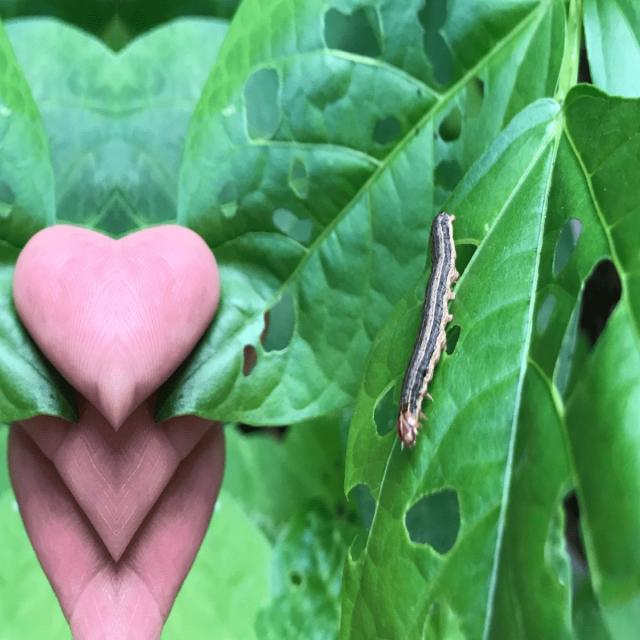Armyworm: (405, 172, 456, 455)
Armyworm_damage: (554, 231, 625, 418), (342, 476, 392, 594), (313, 7, 400, 72), (400, 483, 471, 560), (233, 60, 287, 160), (254, 292, 315, 376), (356, 352, 405, 454), (411, 1, 464, 89), (357, 99, 407, 172), (227, 340, 274, 412), (268, 198, 318, 257), (549, 207, 587, 278), (208, 168, 244, 232), (429, 100, 473, 152), (286, 151, 321, 208), (535, 283, 560, 339)
